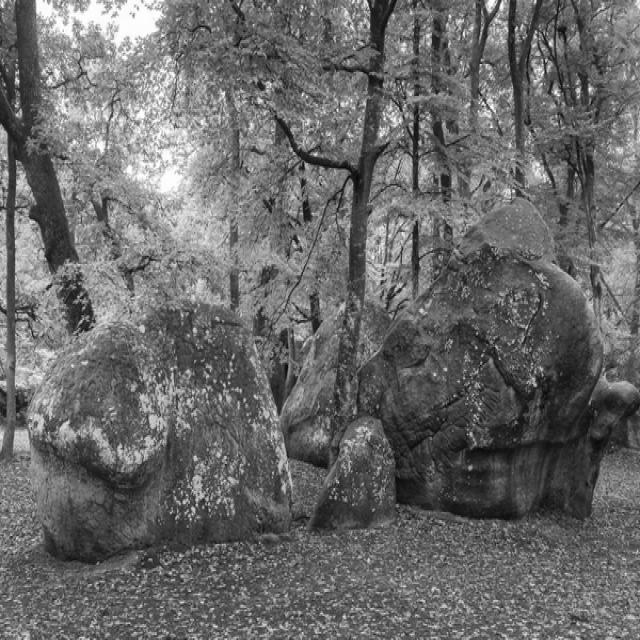Stone: (309, 197, 640, 530), (29, 300, 292, 562), (281, 304, 345, 466), (308, 418, 396, 532)
